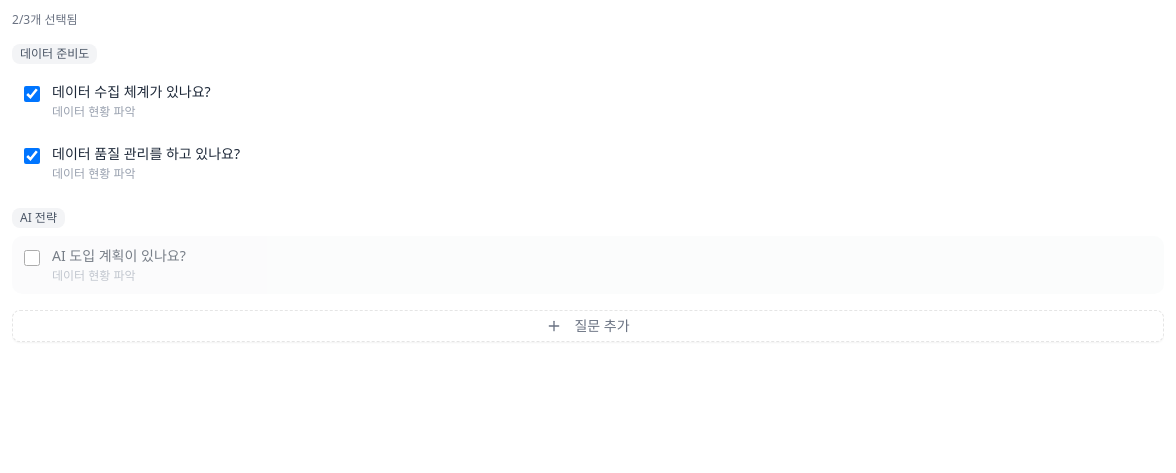
it: GuideQuestions › 질문 추가 폼 › "질문 추가" 버튼 클릭 시 입력 폼이 나타난다
Click the button "질문 추가" at (588, 326), box [12,310,1164,342]
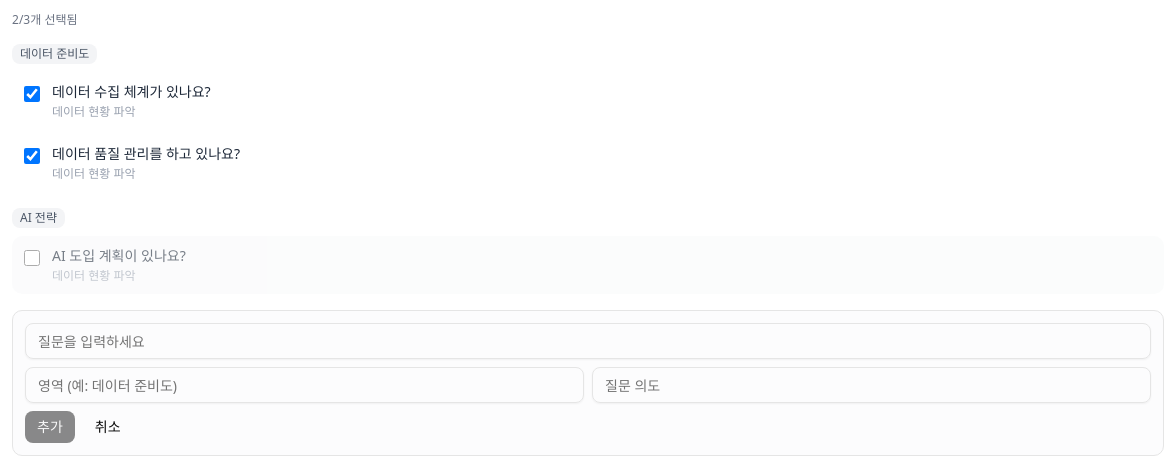
Expected: the field with placeholder "질문을 입력하세요" is shown, [25,323,1151,359]
